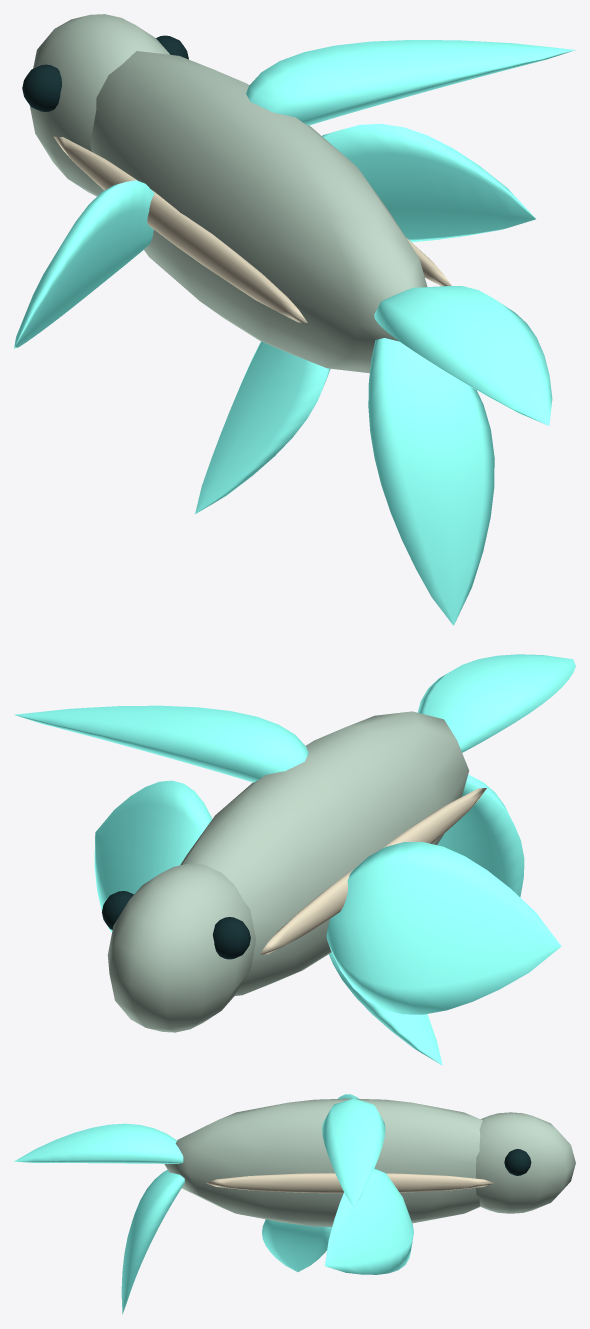
Rendered from ribbon-fish.glb.
3 renders of one model, top to bottom at view 1: azimuth 30°, elevation 25°; view 2: azimuth 150°, elevation 25°; view 3: azimuth 270°, elevation 25°, orthographic. The views are drawn at different scales.
Visible parts, largest first — view 1: body, tail, dorsal-fin, fin-right, ventral-fin, head, fin-left, markings, eyes; view 2: body, fin-left, head, tail, dorsal-fin, fin-right, markings, ventral-fin, eyes; view 3: body, tail, head, fin-right, dorsal-fin, markings, ventral-fin, eyes.
Boxes of the visible parts, box(x1,y1,x2,y2) form: body: box(90, 51, 427, 373); tail: box(368, 286, 552, 625); dorsal-fin: box(246, 40, 575, 125); fin-right: box(322, 123, 535, 242); ventral-fin: box(195, 341, 330, 514); head: box(29, 14, 170, 196); fin-left: box(14, 180, 154, 348); markings: box(54, 136, 451, 322); eyes: box(22, 35, 188, 111); body: box(180, 711, 469, 995); fin-left: box(326, 842, 561, 1014); head: box(107, 863, 255, 1032); tail: box(417, 654, 575, 896); dorsal-fin: box(14, 705, 308, 782); fin-right: box(94, 780, 212, 932); markings: box(259, 788, 486, 954); ventral-fin: box(329, 952, 442, 1065); eyes: box(102, 891, 250, 959); body: box(164, 1098, 482, 1226); tail: box(14, 1123, 184, 1314); head: box(476, 1112, 575, 1213); fin-right: box(324, 1168, 413, 1274); dorsal-fin: box(322, 1098, 385, 1207); markings: box(206, 1173, 494, 1193); ventral-fin: box(262, 1219, 332, 1271); eyes: box(504, 1149, 531, 1175).
Bounding box in the file's own units: 0.5986 × 0.3887 × 0.8745.
